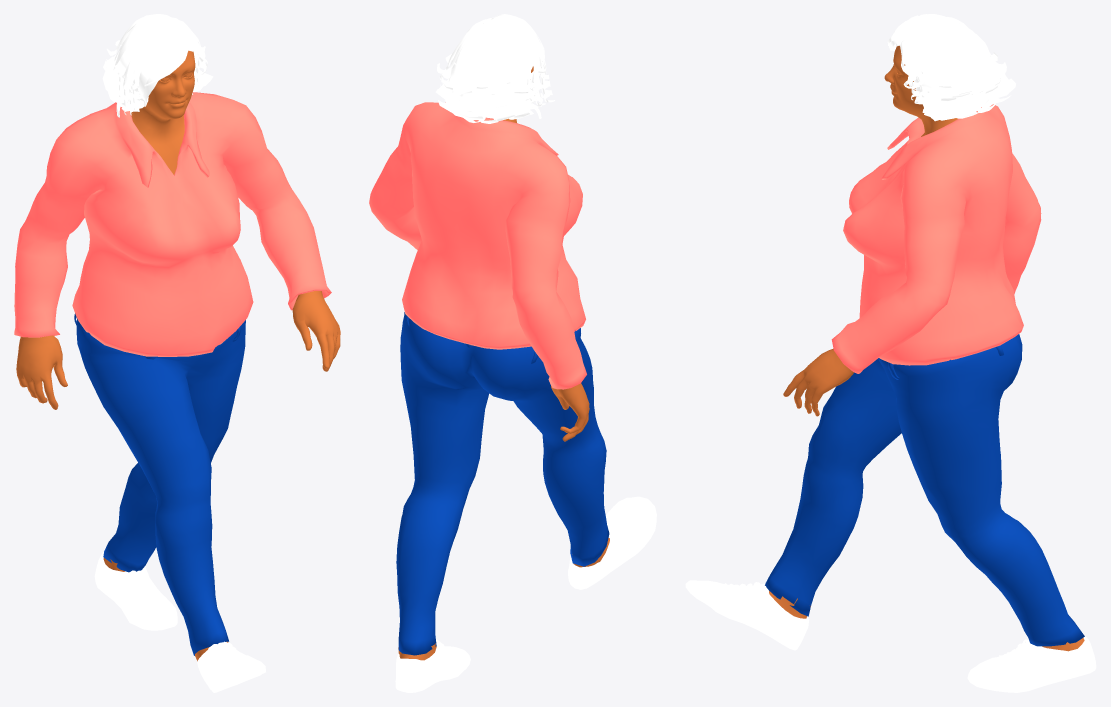
File: Woman_03_Walking-transformed.glb
3 views of the same model, side by side, from view 1: azimuth 30°, elevation 25°; view 2: azimuth 150°, elevation 25°; view 3: azimuth 270°, elevation 25° (orthographic). The views are drawn at different scales.
Parts seen in each view (by area): view 1: Tops.002, Bottoms.002, Body.002, Hair.002, Shoes.002; view 2: Tops.002, Bottoms.002, Hair.002, Shoes.002, Body.002; view 3: Bottoms.002, Tops.002, Hair.002, Shoes.002, Body.002.
Boxes of the visible parts, x1,y1,x2,y2 form: Tops.002: (14,92,331,356); Bottoms.002: (74,313,245,655); Body.002: (16,50,340,661); Hair.002: (102,14,213,117); Shoes.002: (94,552,265,692); Tops.002: (369,102,586,389); Bottoms.002: (396,312,609,655); Hair.002: (435,14,554,123); Shoes.002: (395,496,656,692); Body.002: (398,66,609,660); Bottoms.002: (765,334,1084,646); Tops.002: (831,104,1041,373); Hair.002: (887,14,1015,121); Shoes.002: (685,580,1096,692); Body.002: (769,45,1084,651).
Bounding box in the file's own units: 0.7175 × 1.74 × 0.9922.
